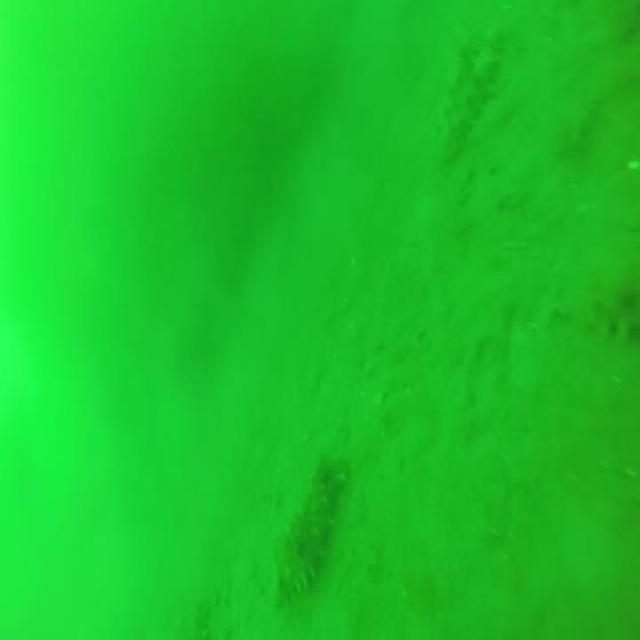holothurian: (273, 448, 361, 612), (434, 24, 508, 168), (590, 276, 640, 356)
